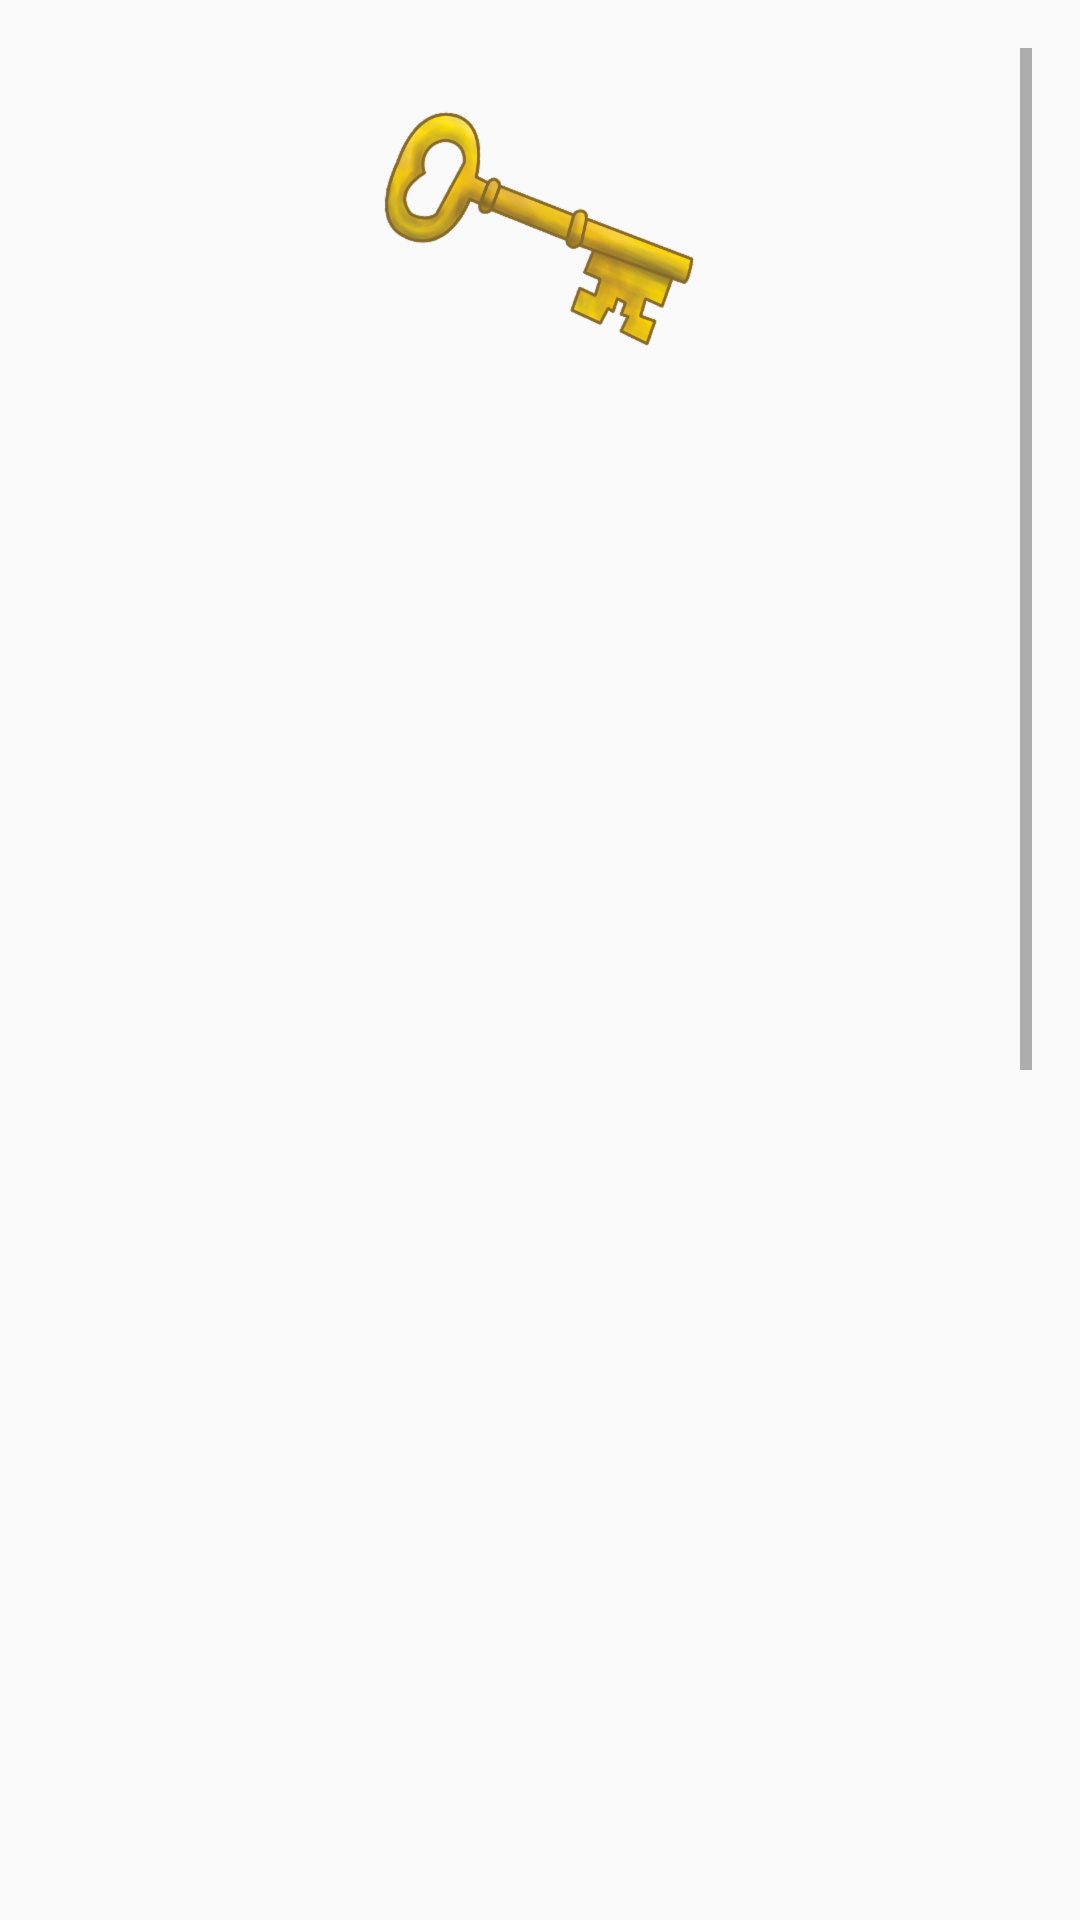

Screen size 1080 x 1920. Icon name, then its box in pixels as (x1, y1, x2, y2):
keystepstep: (385, 112, 694, 346)
